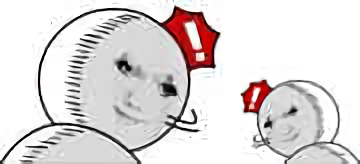dragon: (113, 54, 178, 124), (261, 102, 303, 141)
